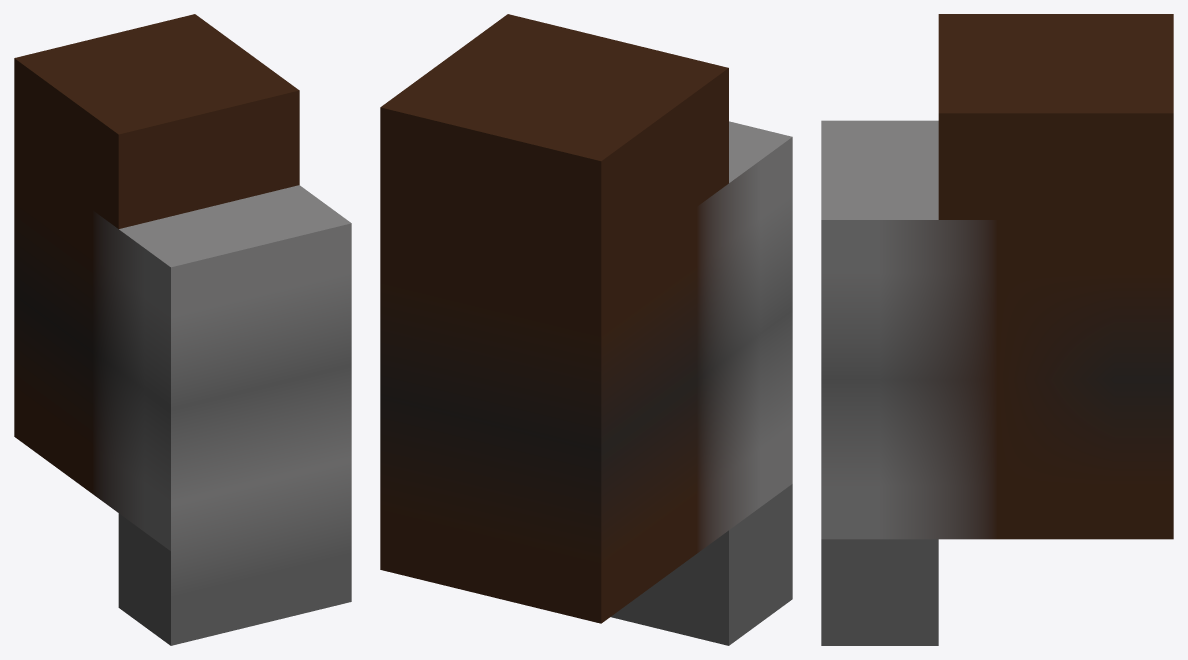
Rendered from patches_legR_2.fbx.
3 views of the same model, side by side, from view 1: azimuth 30°, elevation 25°; view 2: azimuth 150°, elevation 25°; view 3: azimuth 270°, elevation 25° (orthographic). The views are drawn at different scales.
Visible parts, largest first — view 1: patches_legR_2; view 2: patches_legR_2; view 3: patches_legR_2.
Boxes of the visible parts, x1=… form: patches_legR_2: x1=14, y1=14, x2=351, y2=645; patches_legR_2: x1=380, y1=14, x2=792, y2=645; patches_legR_2: x1=821, y1=14, x2=1173, y2=645.
Bounding box in the file's own units: 2 × 5 × 3.
1 material, 1 textured.
